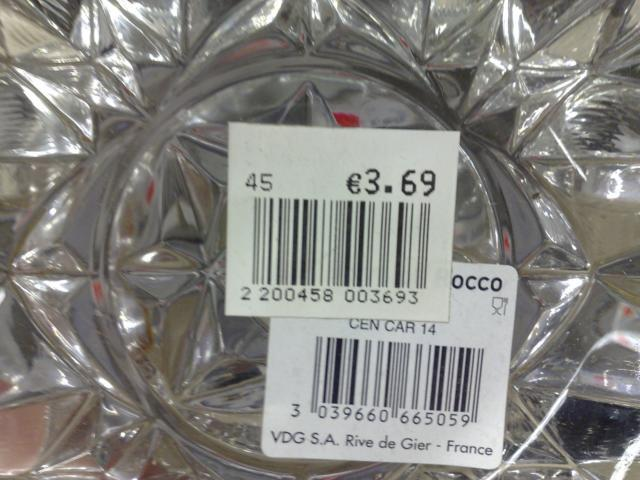Barcode: (265, 304, 511, 471), (231, 193, 440, 309)
